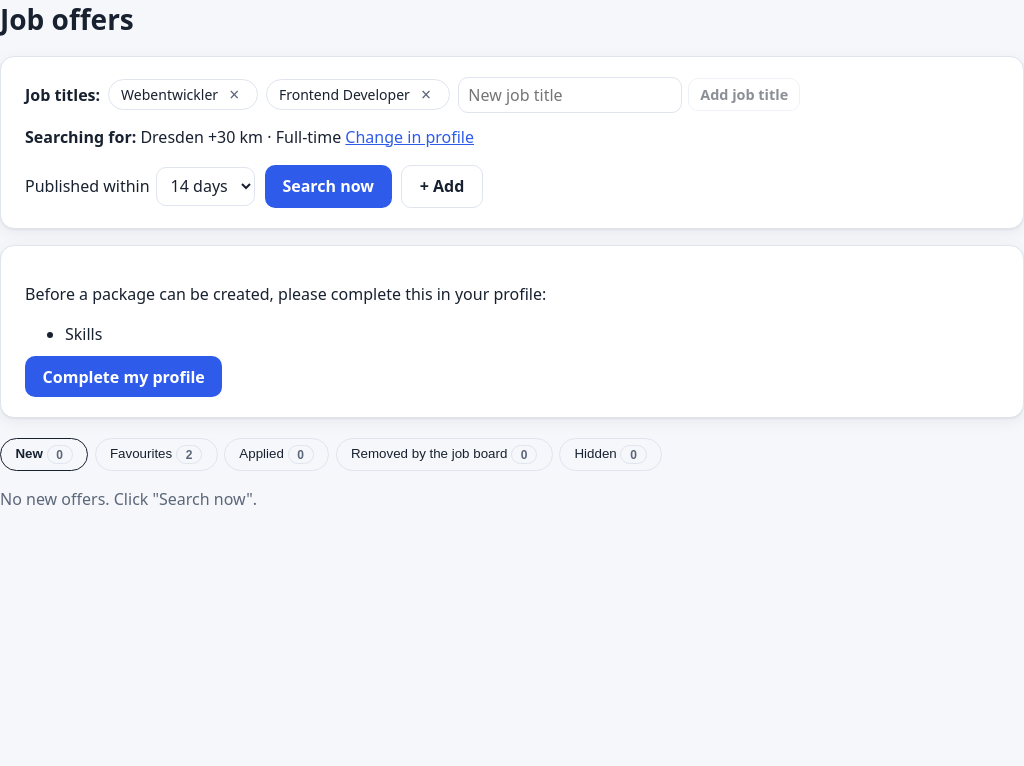
Test: Create package › two favourites: one readiness request and one explanation block
Click the tab "Favourites 2" at (156,455), box top-left (95, 438), bottom-right (218, 471)
(page scrolled)
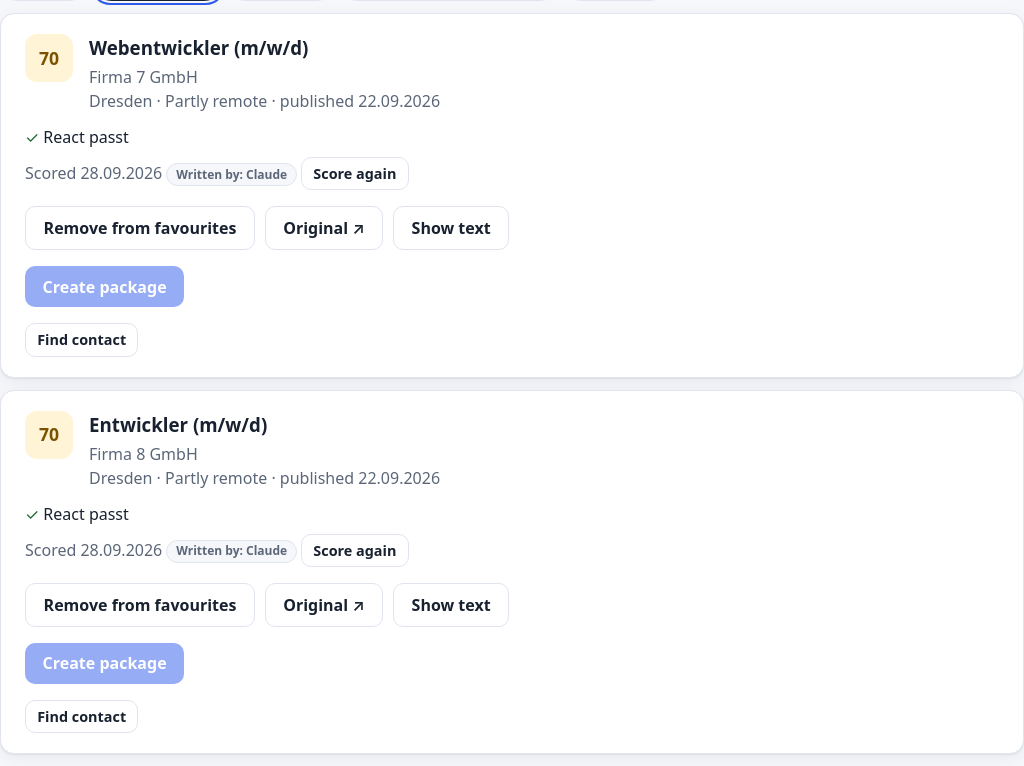
Check: the number of buttons "Create package" is 2, box top-left (25, 266), bottom-right (184, 307); top-left (25, 643), bottom-right (184, 684)
Check: the button "Create package" below "Firma 7 GmbH" is disabled, box top-left (25, 266), bottom-right (184, 307)
Check: the button "Create package" below "Firma 8 GmbH" is disabled, box top-left (25, 643), bottom-right (184, 684)
